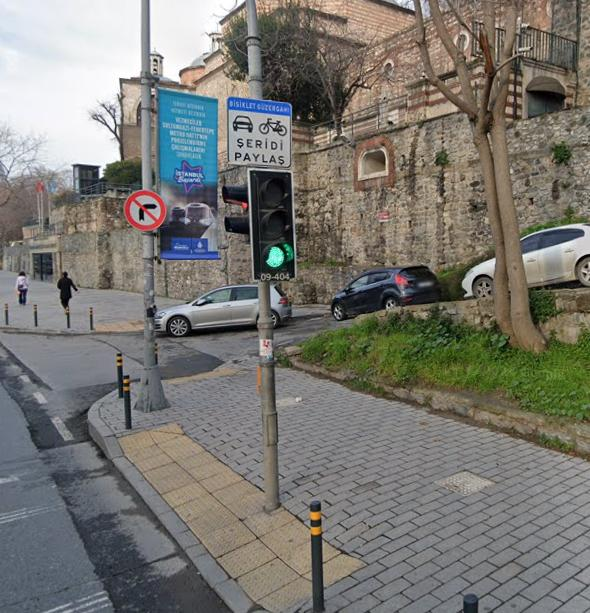rightturnsareforbidden: (122, 187, 169, 234)
